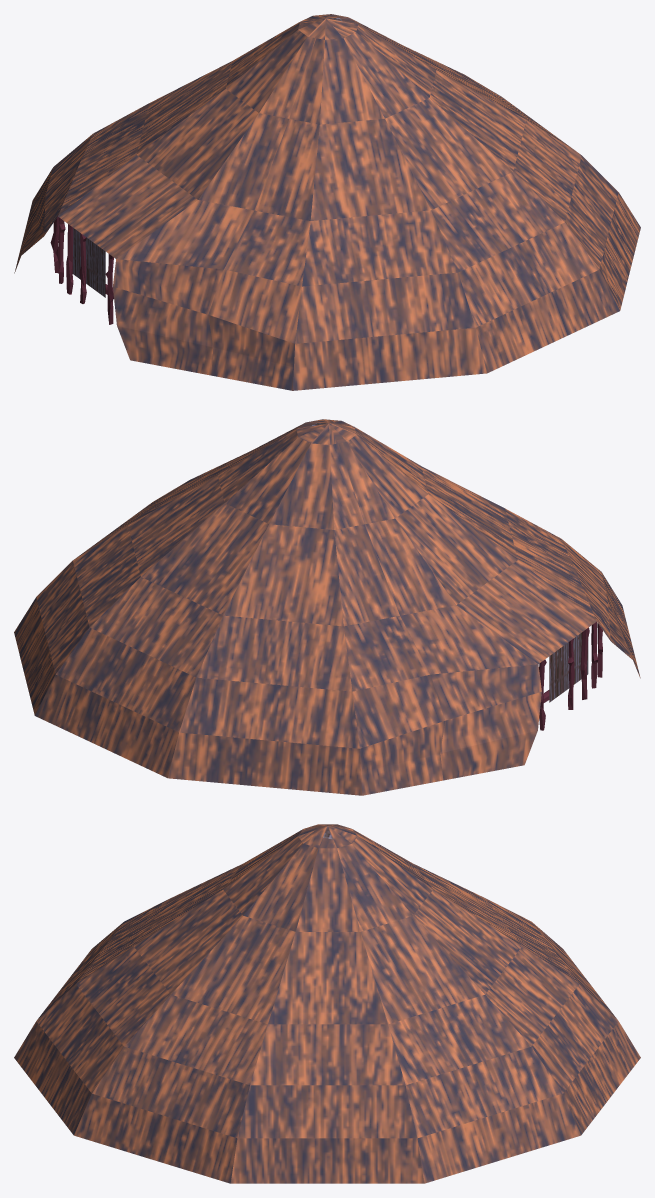
The model's file is Akademia.fbx.
The picture shows the model from 3 angles, top to bottom: view 1: azimuth 30°, elevation 25°; view 2: azimuth 150°, elevation 25°; view 3: azimuth 270°, elevation 25°; orthographic projection. The views are drawn at different scales.
Parts seen in each view (by area): view 1: Akademia; view 2: Akademia; view 3: Akademia.
Boxes of the visible parts, box(x1,y1,x2,y2) form: Akademia: box(14, 14, 640, 390); Akademia: box(14, 419, 640, 795); Akademia: box(14, 824, 640, 1183).
Bounding box in the file's own units: 48243 × 21251 × 51473.
